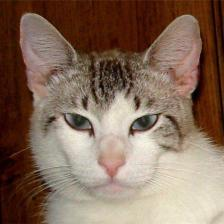cat: (15, 9, 205, 196)
